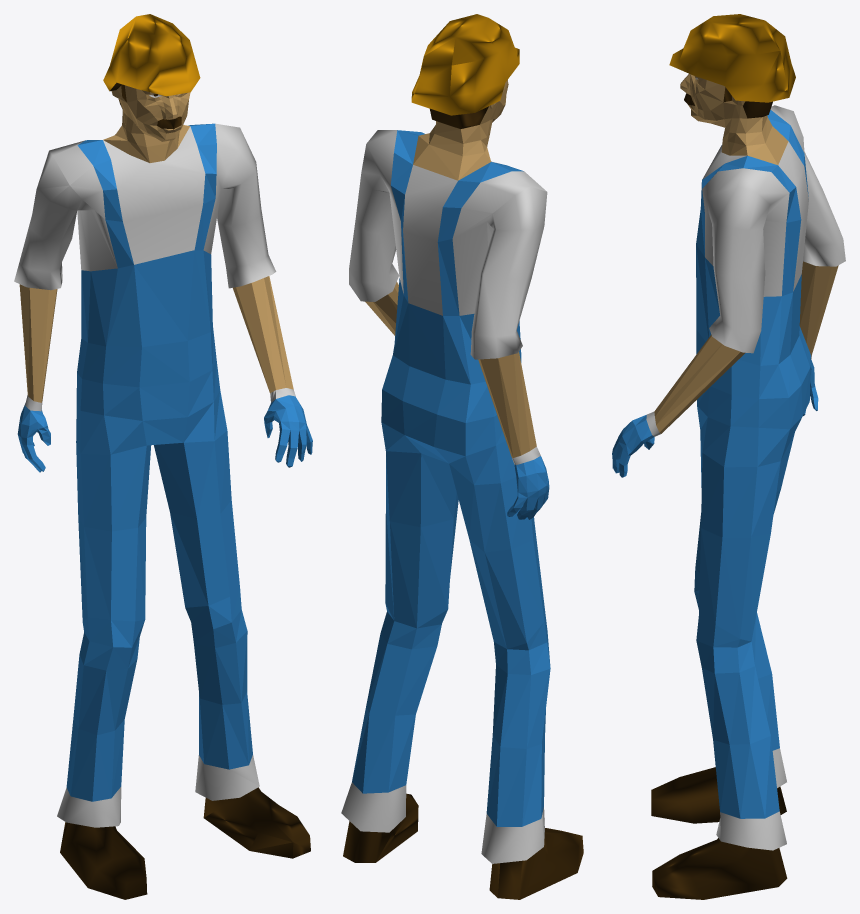
The model's file is worker.dae.
The picture shows the model from 3 angles, left to right: view 1: azimuth 30°, elevation 25°; view 2: azimuth 150°, elevation 25°; view 3: azimuth 270°, elevation 25°; orthographic projection. The views are drawn at different scales.
Visible parts, largest first — view 1: skin_Coord_Material__6__Surf, polymsh7_Pts_Material__4__Surf, skin_Coord_Material__2__Surf, skin_Coord_Material__3__Surf, skin_Coord_Material__5__Surf; view 2: skin_Coord_Material__6__Surf, polymsh7_Pts_Material__4__Surf, skin_Coord_Material__2__Surf, skin_Coord_Material__5__Surf, skin_Coord_Material__3__Surf; view 3: skin_Coord_Material__6__Surf, polymsh7_Pts_Material__4__Surf, skin_Coord_Material__3__Surf, skin_Coord_Material__2__Surf, skin_Coord_Material__5__Surf.
Part boxes in pixels (x1,y1,x2,y2): skin_Coord_Material__6__Surf: (17, 123, 312, 801); polymsh7_Pts_Material__4__Surf: (14, 123, 295, 827); skin_Coord_Material__2__Surf: (19, 85, 293, 402); skin_Coord_Material__3__Surf: (60, 82, 310, 899); skin_Coord_Material__5__Surf: (103, 14, 200, 96); skin_Coord_Material__6__Surf: (352, 130, 550, 826); polymsh7_Pts_Material__4__Surf: (341, 130, 547, 863); skin_Coord_Material__2__Surf: (365, 80, 536, 457); skin_Coord_Material__5__Surf: (411, 14, 519, 115); skin_Coord_Material__3__Surf: (343, 106, 583, 899); skin_Coord_Material__6__Surf: (612, 110, 818, 818); polymsh7_Pts_Material__4__Surf: (646, 105, 845, 850); skin_Coord_Material__3__Surf: (651, 77, 787, 899); skin_Coord_Material__2__Surf: (654, 74, 838, 433); skin_Coord_Material__5__Surf: (669, 14, 795, 102).
Size of the model in its own units: 5.56 by 19.19 by 4.96.
